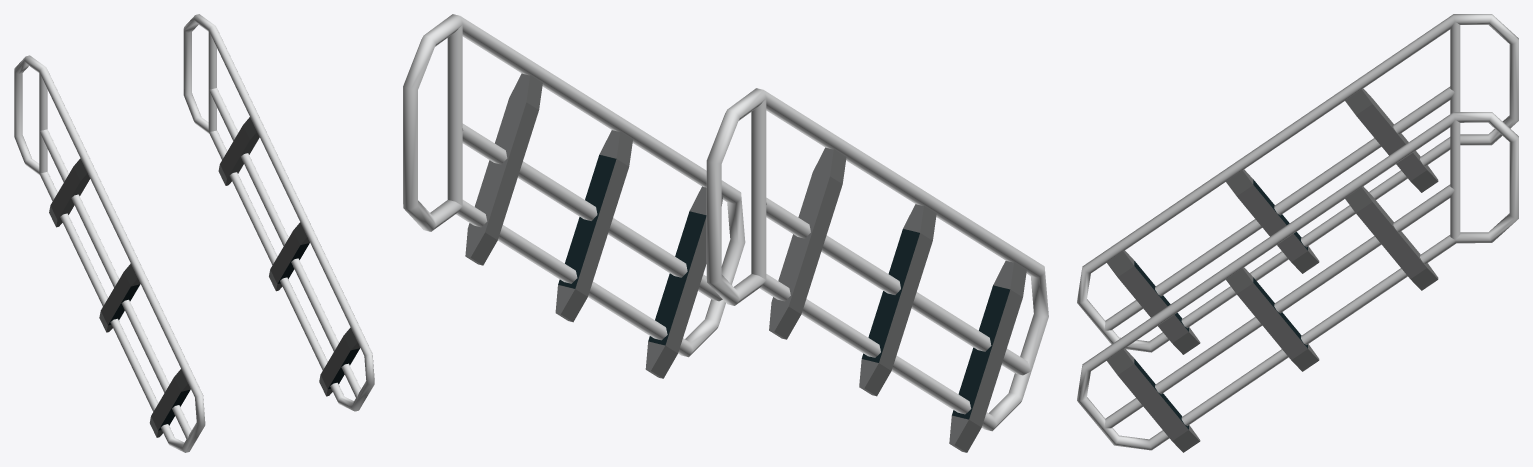
Rendered from Stair_type_A_fence_003.fbx.
The picture shows the model from 3 angles, left to right: view 1: azimuth 30°, elevation 25°; view 2: azimuth 150°, elevation 25°; view 3: azimuth 270°, elevation 25°; orthographic projection. The views are drawn at different scales.
Parts seen in each view (by area): view 1: Stair_type_A_fence_003; view 2: Stair_type_A_fence_003; view 3: Stair_type_A_fence_003.
Part boxes in pixels (bbox=[...]): Stair_type_A_fence_003: bbox=[14, 14, 374, 452]; Stair_type_A_fence_003: bbox=[403, 14, 1048, 452]; Stair_type_A_fence_003: bbox=[1077, 14, 1518, 452].
Size of the model in its own units: 171 by 309 by 261.
